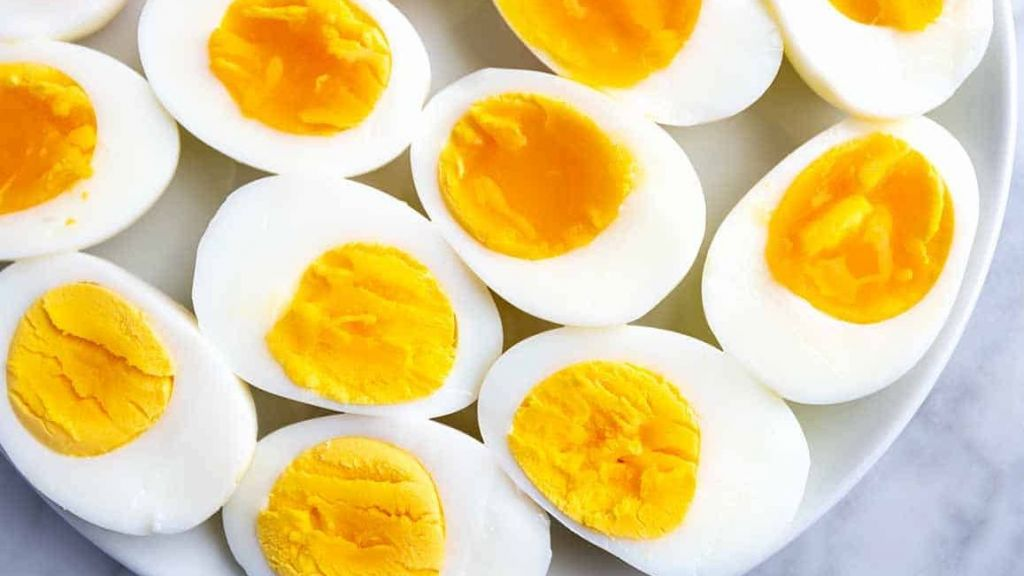Telur: (717, 124, 997, 347), (488, 339, 780, 544), (14, 253, 236, 522), (394, 84, 671, 284), (145, 9, 459, 176), (253, 191, 499, 373), (262, 444, 538, 576), (1, 63, 193, 241)
